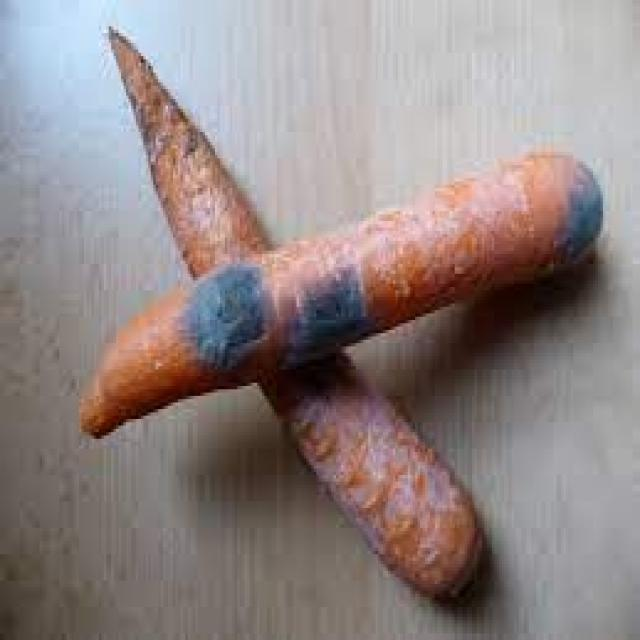Stale_Carrot: (65, 169, 610, 384)
